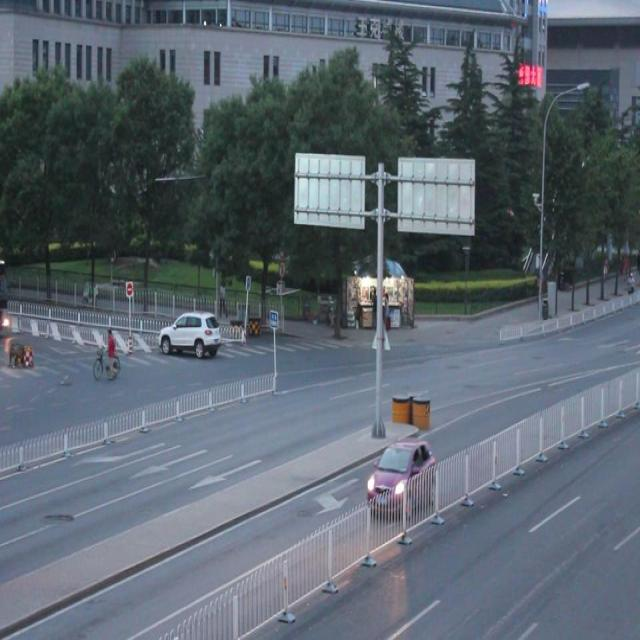car: (366, 438, 437, 514), (158, 306, 223, 361)
